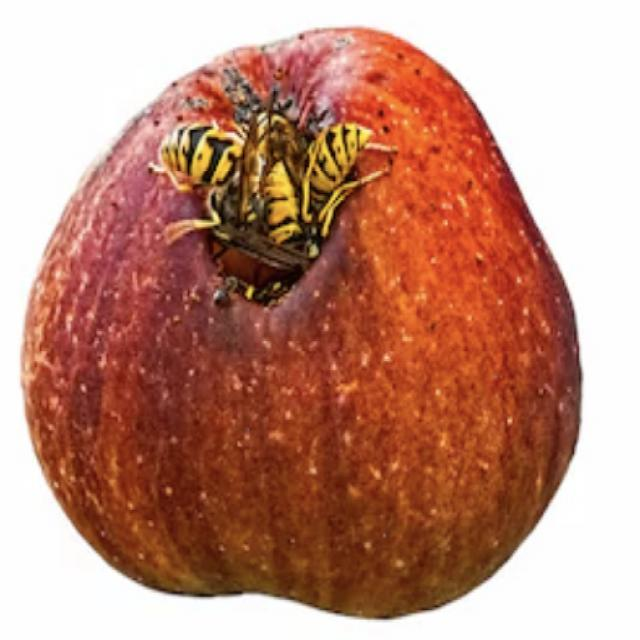Rotten: (72, 25, 570, 570)
